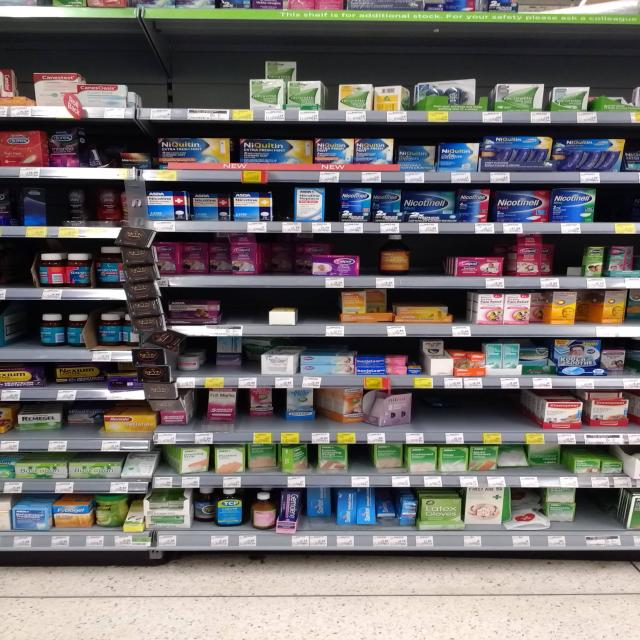void: (137, 57, 244, 109), (408, 391, 538, 431), (599, 183, 640, 222), (0, 304, 36, 348), (580, 489, 620, 528), (0, 242, 34, 286), (225, 288, 265, 324), (304, 290, 336, 323)
